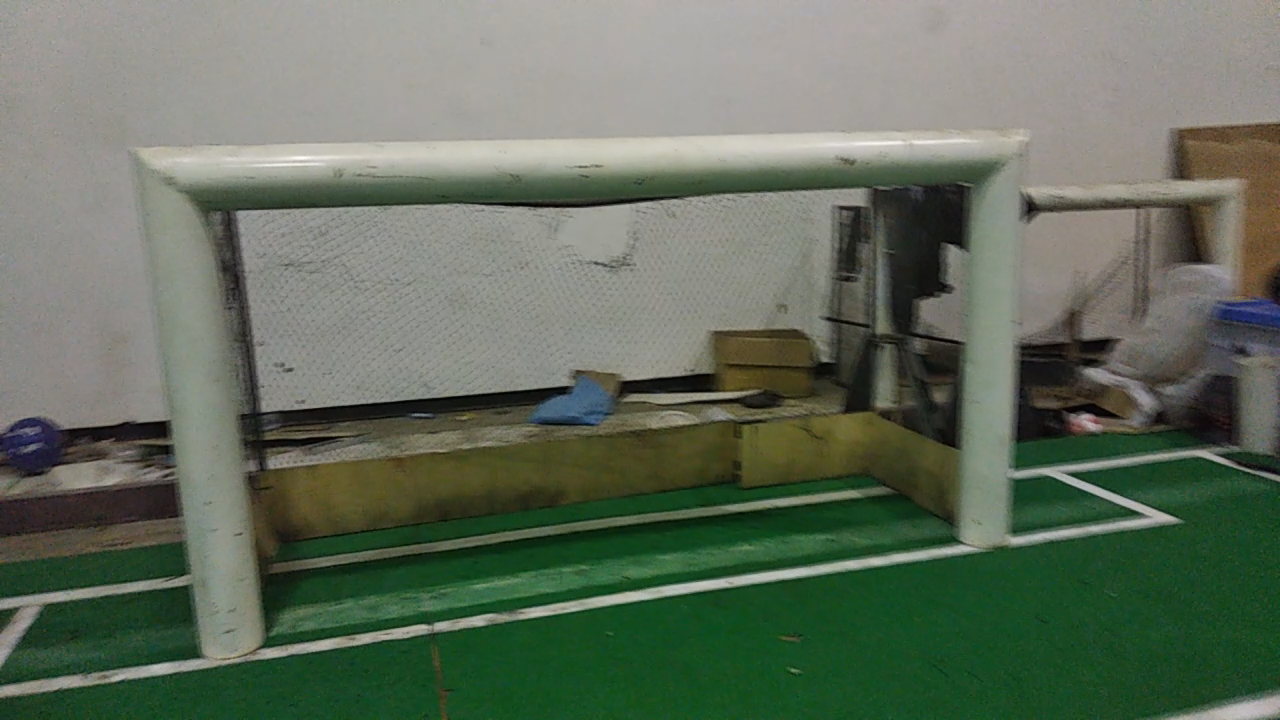gawang: (112, 106, 1042, 673)
